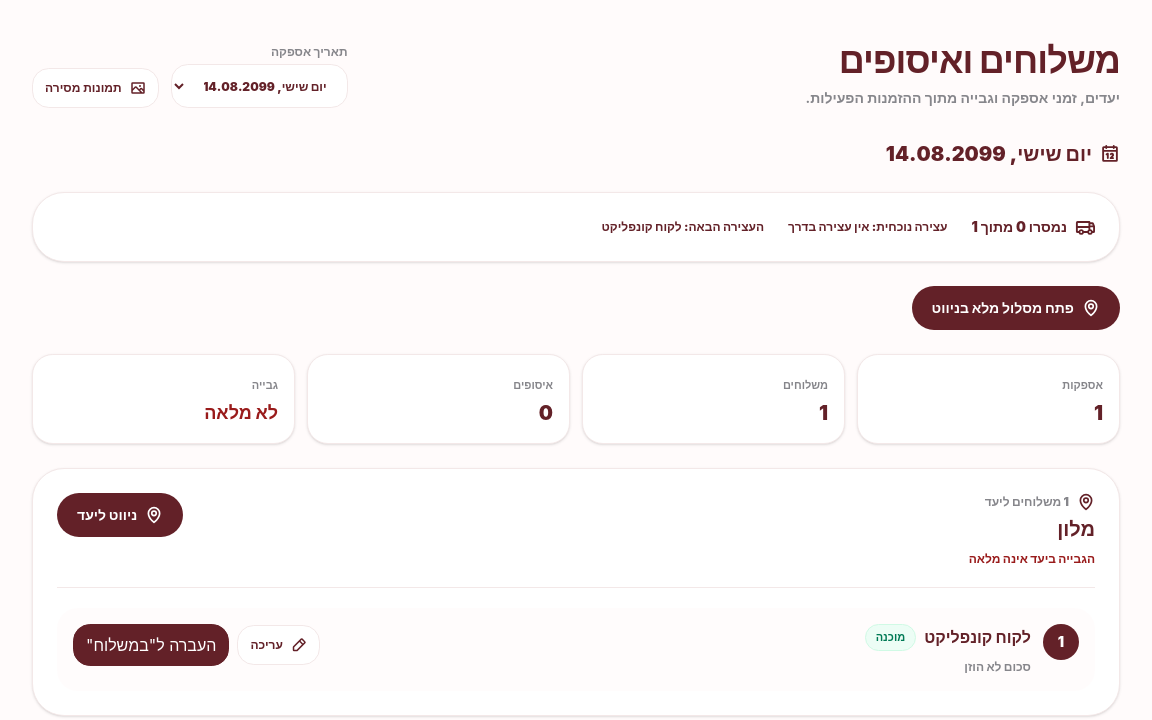
it: DeliveriesScreen › retains a conflict error and never shows an unconfirmed status
Click the button with aria-label "עדכון לקוח קונפליקט לסטטוס במשלוח". click: x=151, y=645
box: [73,624,229,666]
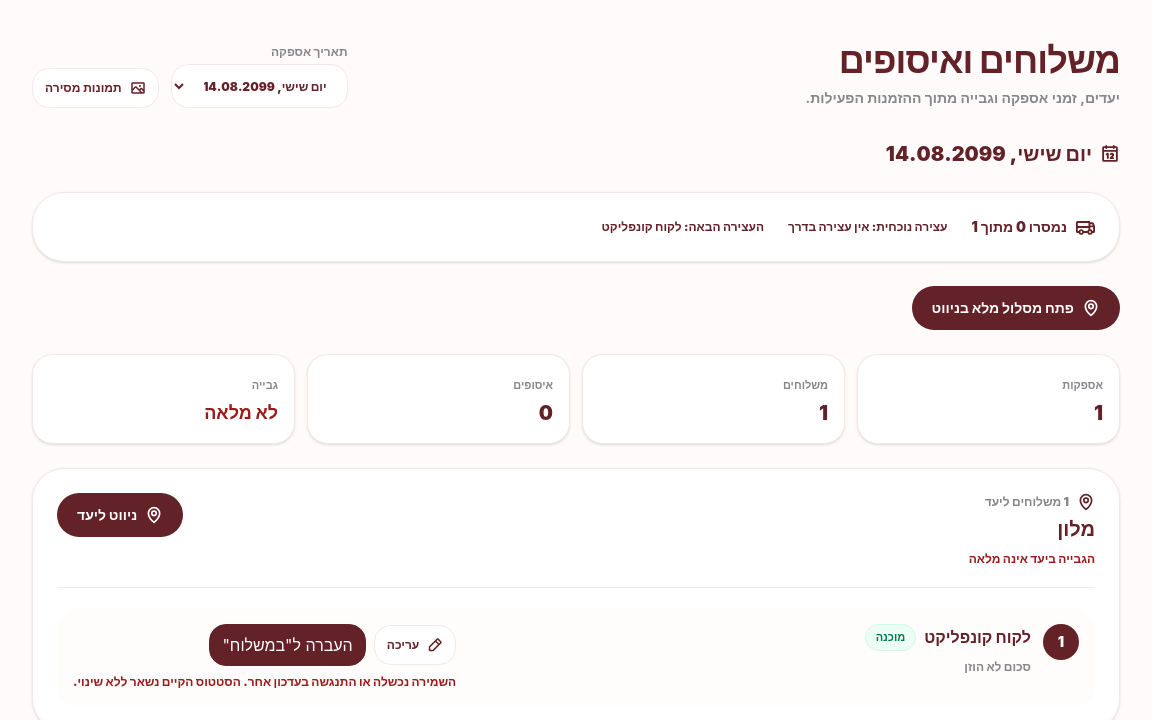
Check: the text "מוכנה" is shown, box [865,624,916,650]
Check: the message shows "השמירה נכשלה או התנגשה", box [73,674,456,689]
